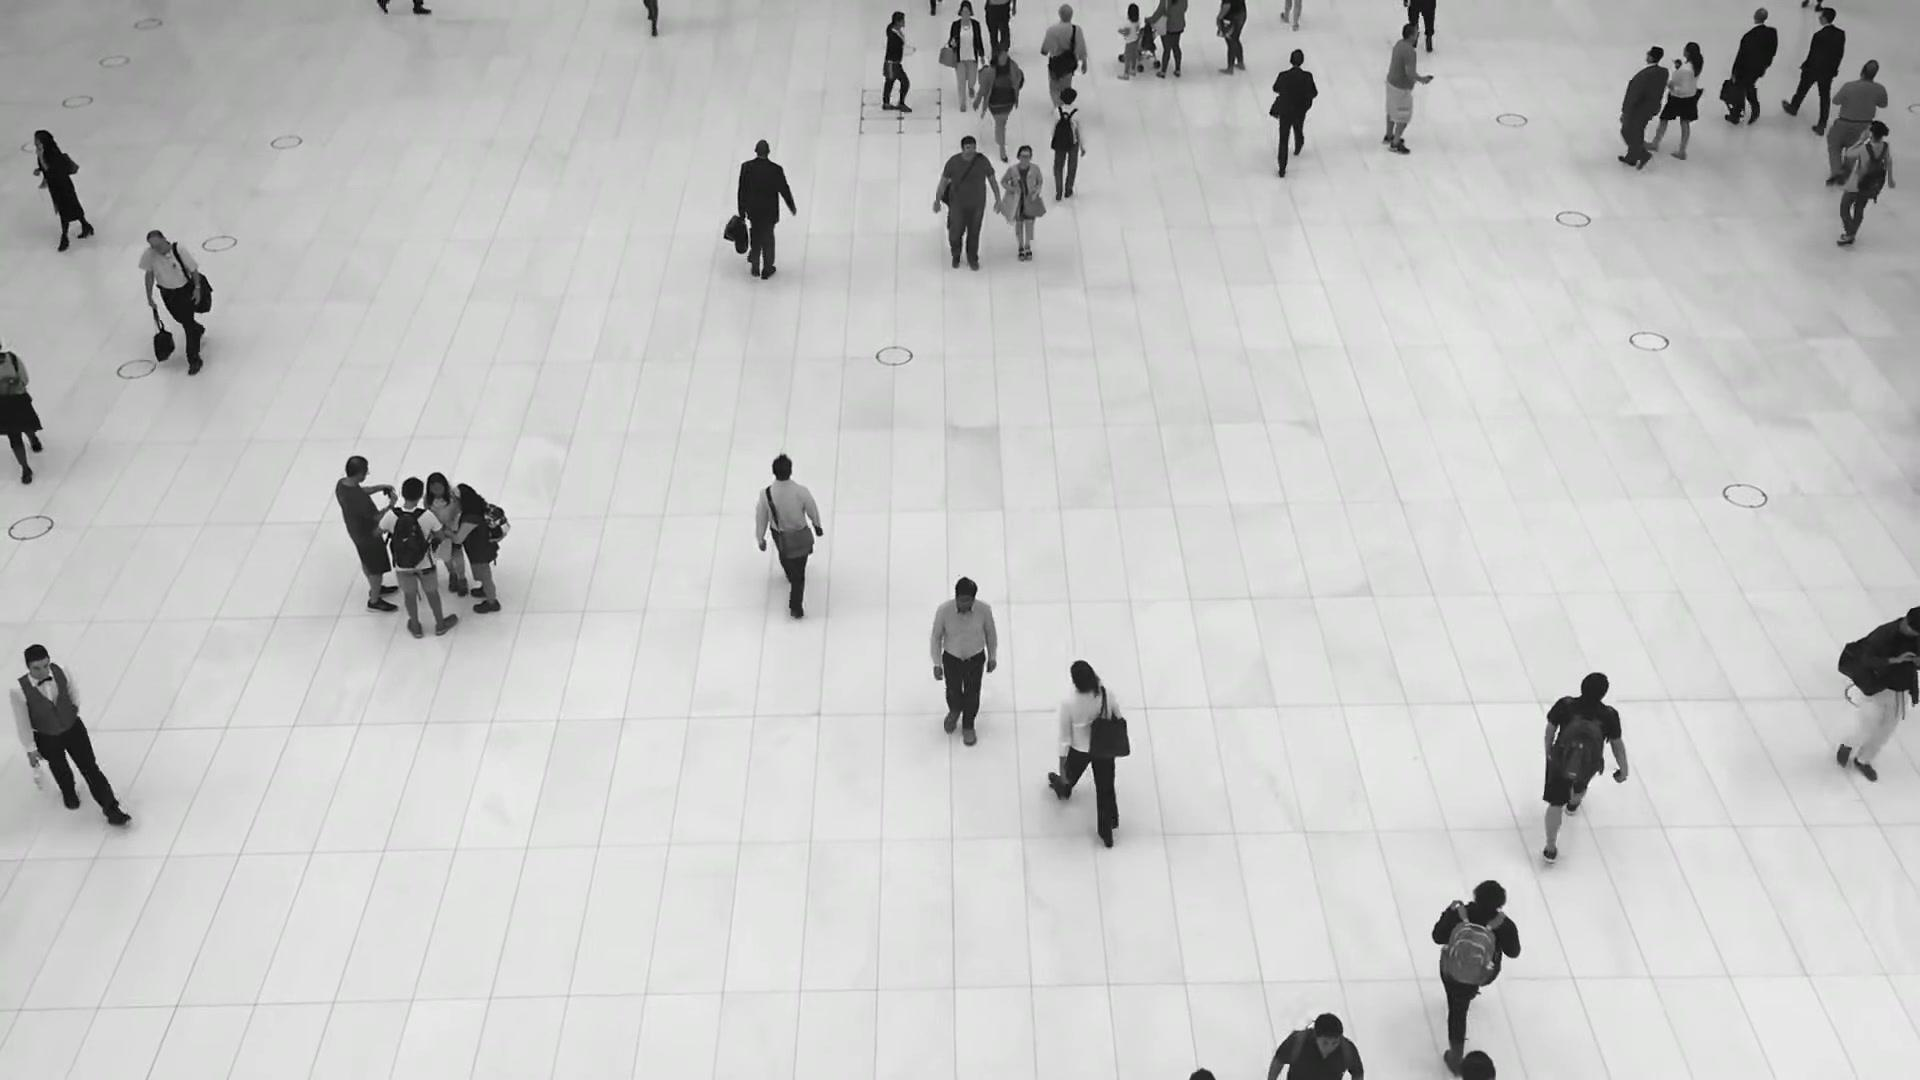person: (8, 642, 133, 827), (1432, 879, 1523, 1073), (1541, 670, 1627, 863), (1839, 604, 1920, 785), (1047, 659, 1122, 848), (379, 477, 460, 635), (929, 575, 1000, 753), (754, 452, 824, 615), (137, 226, 212, 371), (929, 135, 1000, 277), (333, 455, 399, 608), (1834, 122, 1904, 256), (1820, 59, 1889, 184), (736, 140, 793, 286), (1786, 6, 1846, 133), (32, 128, 94, 251), (1717, 7, 1779, 127), (449, 481, 502, 613), (1267, 1011, 1366, 1080), (1615, 46, 1670, 171), (1380, 23, 1430, 155), (1649, 43, 1704, 164), (1270, 48, 1319, 181), (422, 469, 469, 592), (1000, 144, 1044, 269), (1039, 2, 1090, 110), (975, 44, 1021, 158), (876, 11, 921, 113), (1048, 86, 1087, 203), (947, 0, 985, 111), (1115, 3, 1139, 80)
